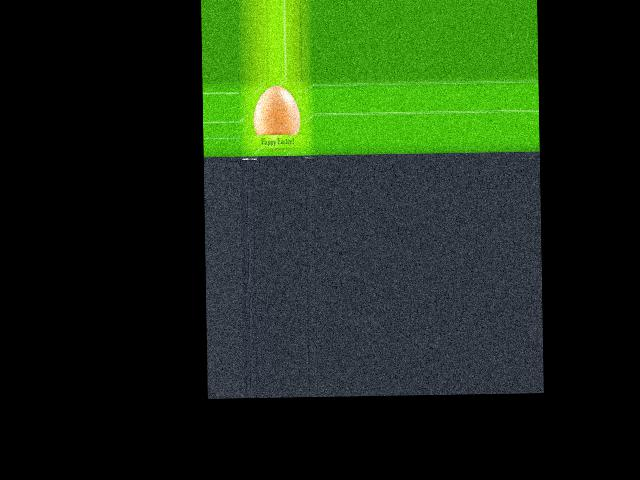egg: (253, 85, 300, 135)
